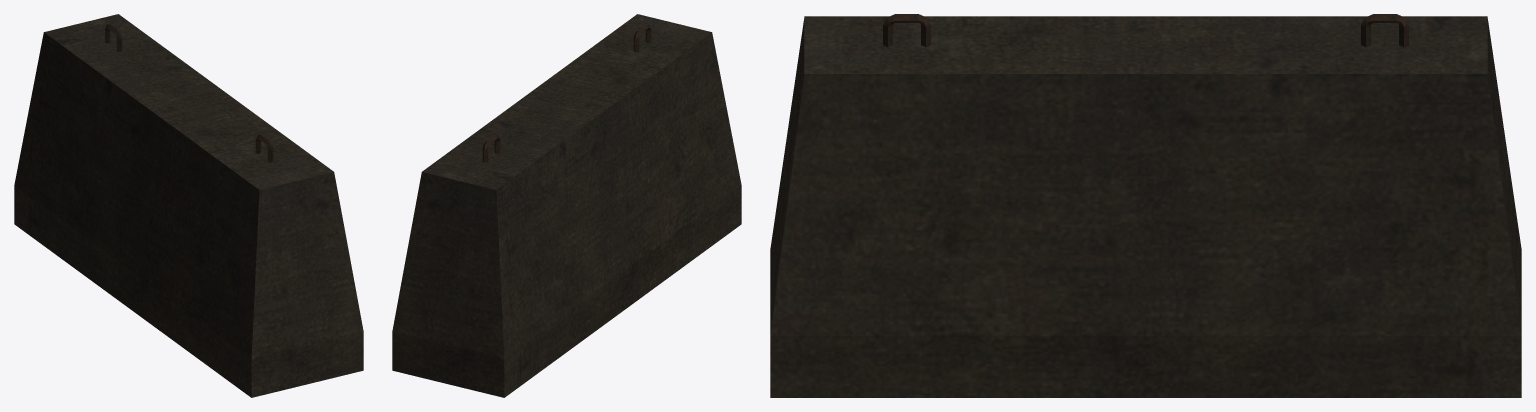
The model's file is concrete_block_mx_1.obj.
The picture shows the model from 3 angles, left to right: view 1: azimuth 30°, elevation 25°; view 2: azimuth 150°, elevation 25°; view 3: azimuth 270°, elevation 25°; orthographic projection. The views are drawn at different scales.
Visible parts, largest first — view 1: concrete_block_mx_1; view 2: concrete_block_mx_1; view 3: concrete_block_mx_1.
Part boxes in pixels (x1,y1,x2,y2): concrete_block_mx_1: [14, 14, 363, 397]; concrete_block_mx_1: [392, 14, 741, 397]; concrete_block_mx_1: [770, 14, 1521, 397].
Size of the model in its own units: 0.6 by 1.1 by 2.2.
